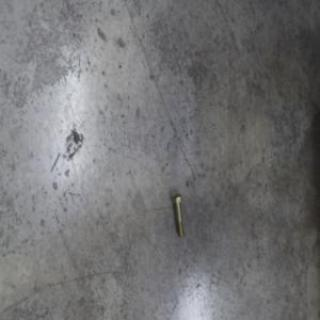Bolttrack_idkeyframe: (172, 193, 187, 239)
